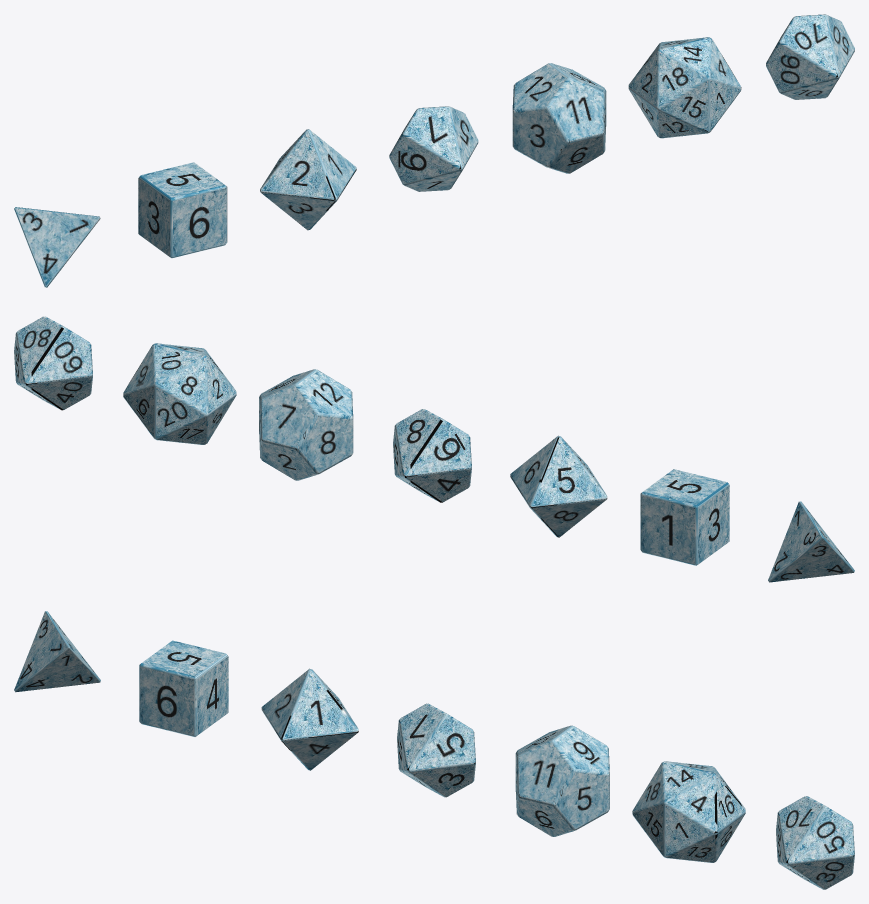
The model's file is frosty_diceset.glb.
3 views of the same model, one above another, from view 1: azimuth 30°, elevation 25°; view 2: azimuth 150°, elevation 25°; view 3: azimuth 330°, elevation 25° (orthographic).
Visible parts, largest first — view 1: d12, d20, d6, d10, d100, d8, d4; view 2: d12, d20, d6, d100, d10, d8, d4; view 3: d12, d20, d6, d10, d100, d8, d4.
Boxes of the visible parts, <box> form: d12: <box>512,63,606,173</box>; d20: <box>628,37,741,138</box>; d6: <box>138,162,227,258</box>; d10: <box>389,106,478,191</box>; d100: <box>766,14,854,99</box>; d8: <box>260,129,356,230</box>; d4: <box>14,207,100,287</box>; d12: <box>259,369,353,480</box>; d20: <box>123,343,236,444</box>; d6: <box>640,469,729,565</box>; d100: <box>14,316,92,410</box>; d10: <box>393,409,471,502</box>; d8: <box>510,435,607,537</box>; d4: <box>768,501,854,582</box>; d12: <box>515,725,609,836</box>; d20: <box>632,761,745,862</box>; d6: <box>139,640,228,736</box>; d10: <box>397,703,475,797</box>; d100: <box>776,796,854,889</box>; d8: <box>261,668,358,770</box>; d4: <box>14,611,100,692</box>.
Size of the model in its own units: 16.37 by 1.89 by 1.89.
7 materials, 7 textured.
